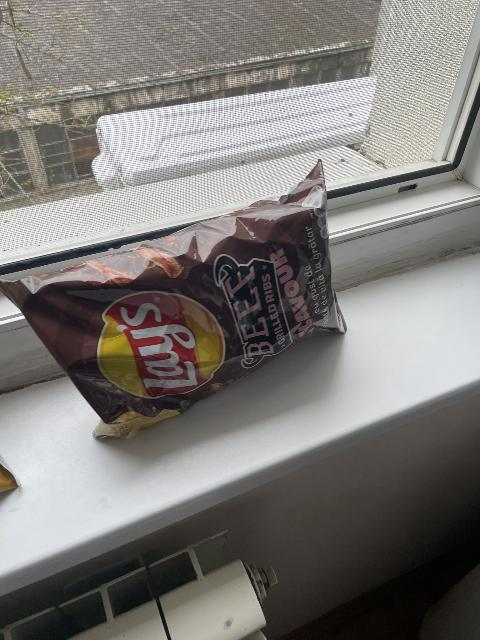Lays Beef Grilled Ribs 125g: (0, 160, 345, 438)
